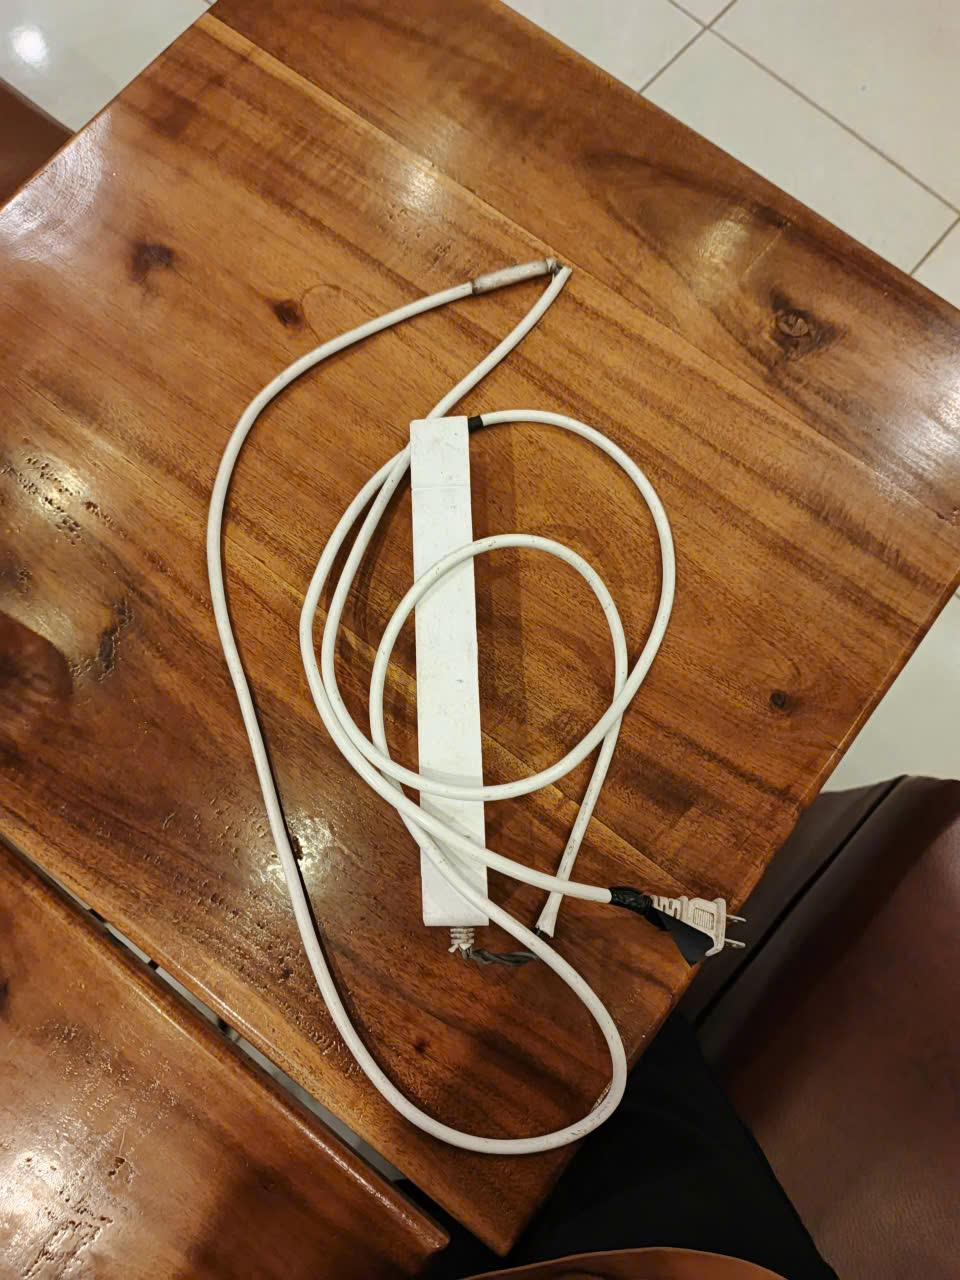Con lai: (210, 256, 754, 1151)
